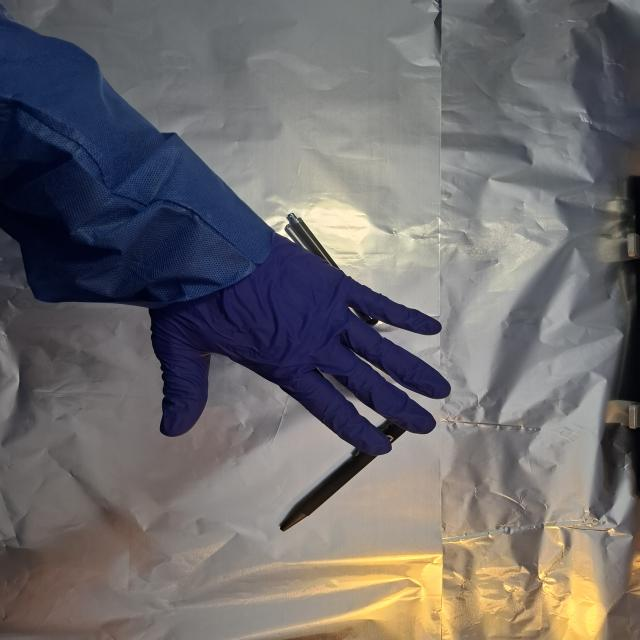glove_on: (146, 232, 454, 458)
